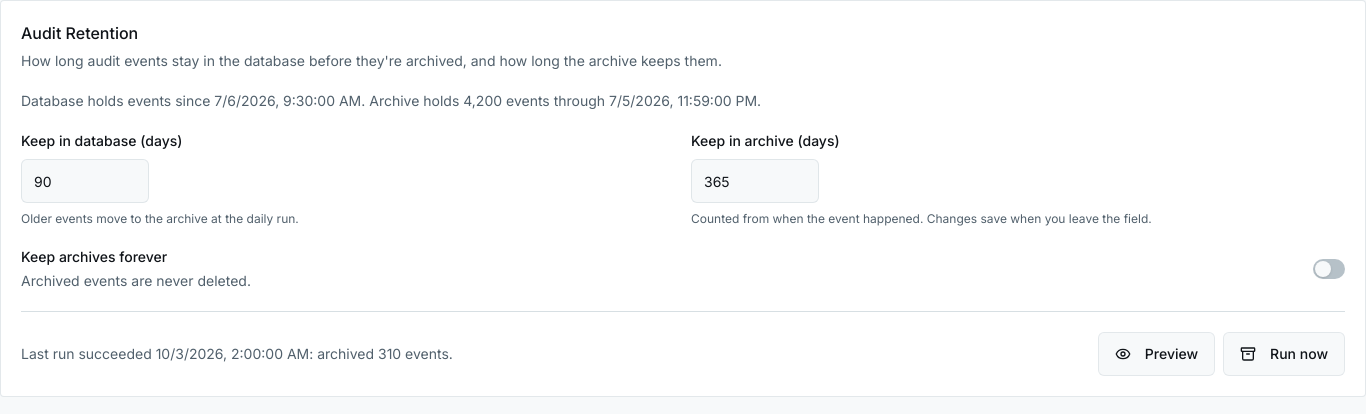
Test: AuditRetentionSettings › keeps archives forever without confirmation and disables the archive field
The image size is (1366, 414).
Check: the number field labelled "Keep in database (days)" is enabled, box [21,159,149,203]
Step 1. Click the switch named "Keep archives forever" → (1329, 269), box [1313,259,1345,279]
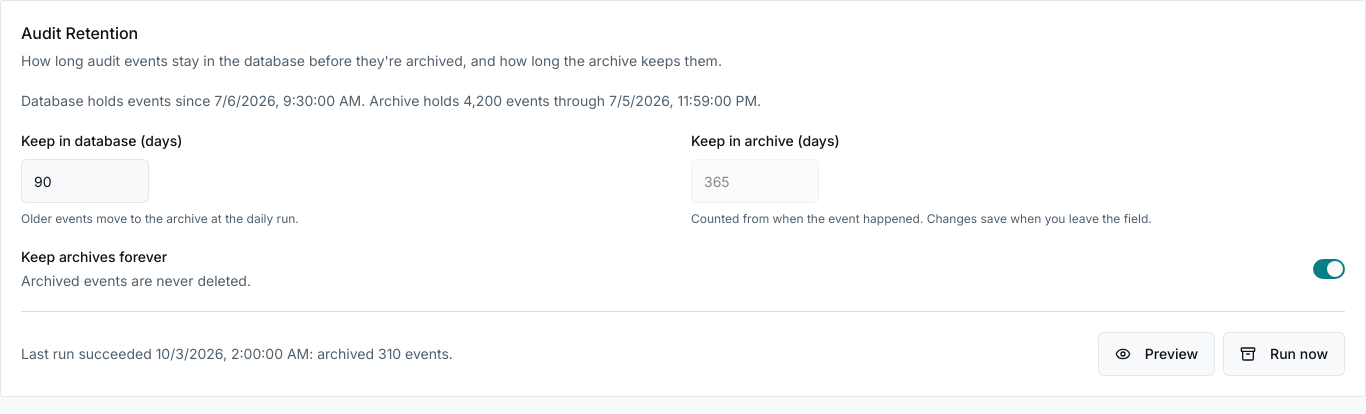
Check: the number field labelled "Keep in archive (days)" is disabled, box [691,159,819,203]
